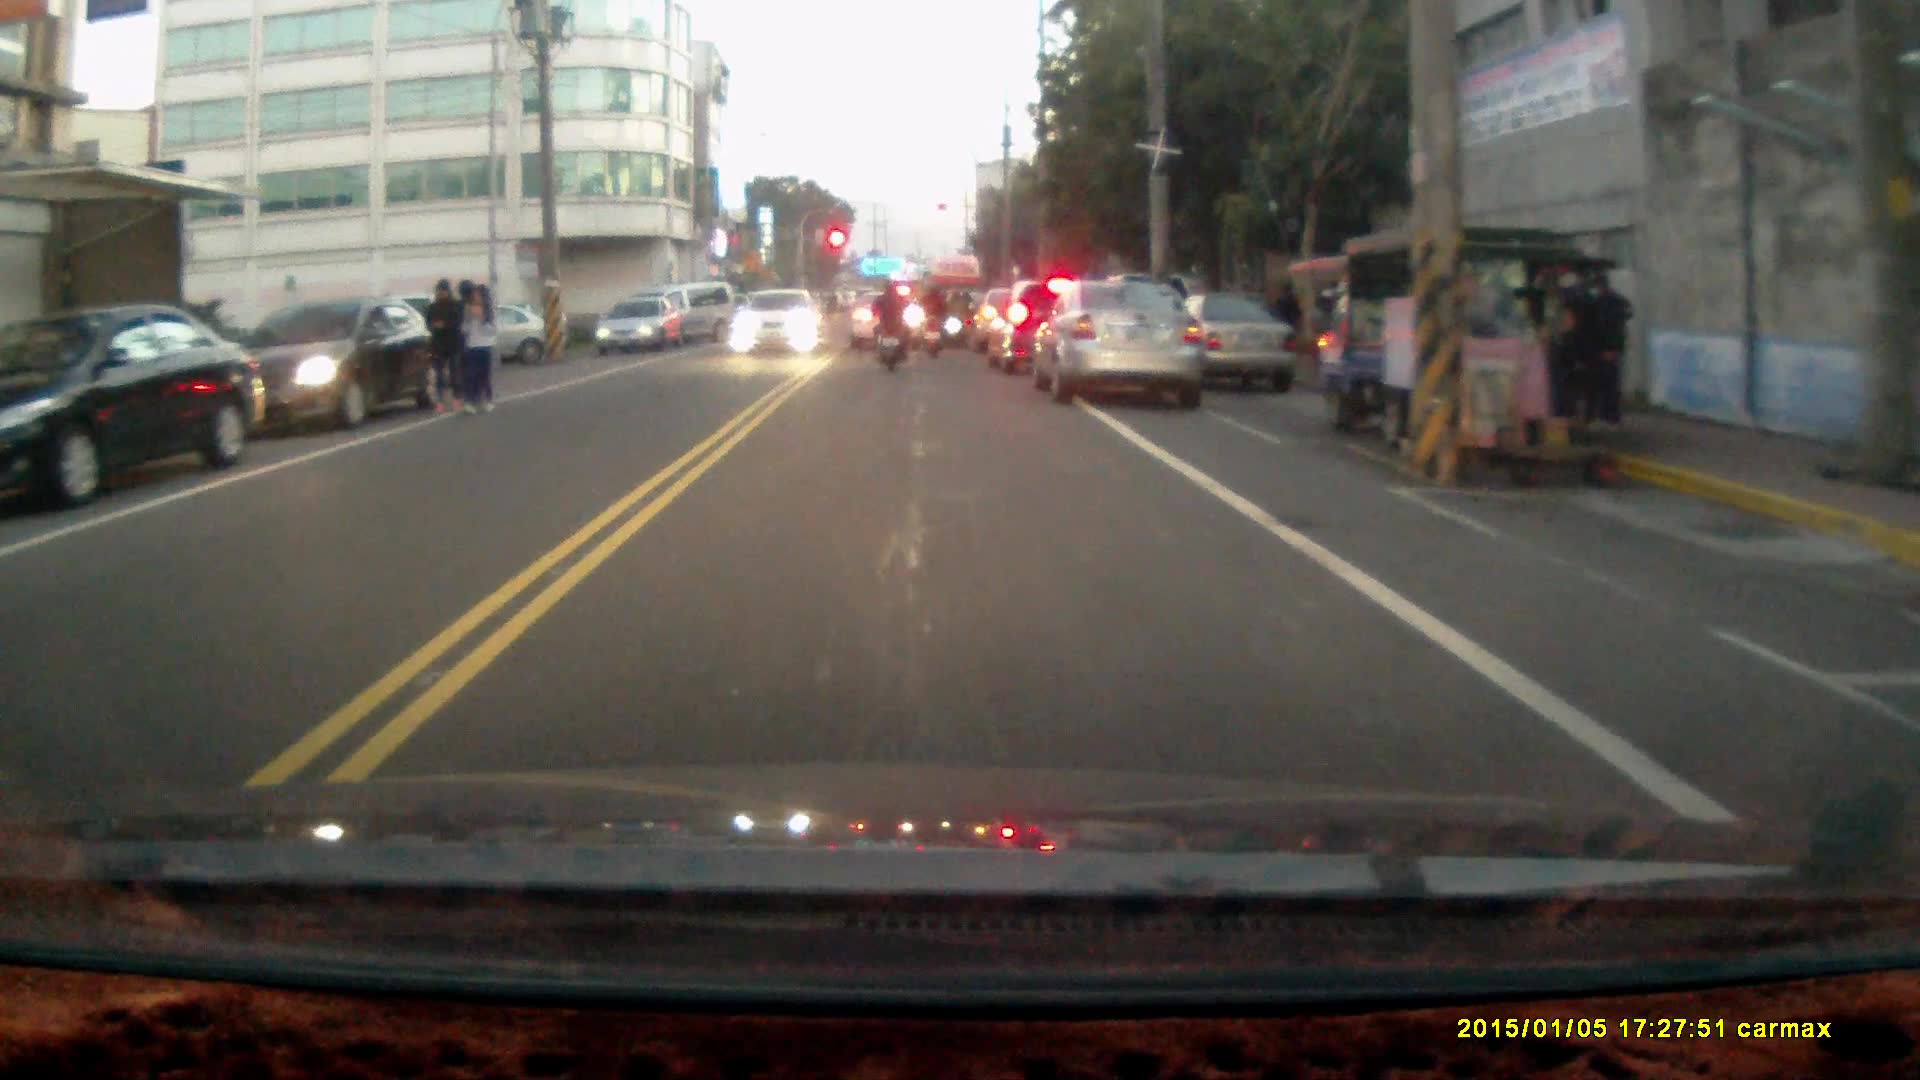pedestrian: (1575, 273, 1632, 433), (423, 278, 465, 423), (458, 285, 496, 422), (1267, 279, 1301, 352)
rider: (868, 280, 908, 374), (914, 281, 947, 360)
vehicle: (1313, 234, 1615, 467), (0, 294, 274, 509), (215, 297, 444, 441), (1036, 275, 1207, 404), (729, 290, 822, 354), (850, 295, 930, 356), (597, 298, 682, 355)
